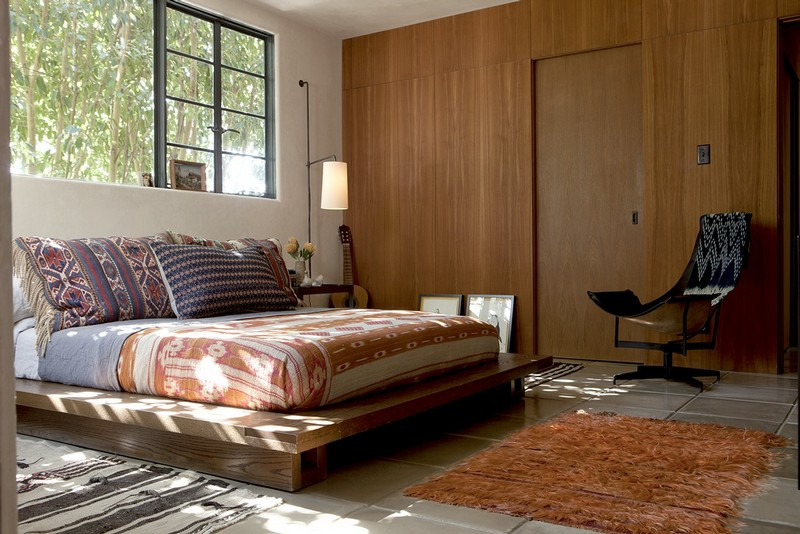bed: (16, 178, 528, 483)
chair: (586, 206, 751, 400)
lamp: (306, 148, 351, 225)
